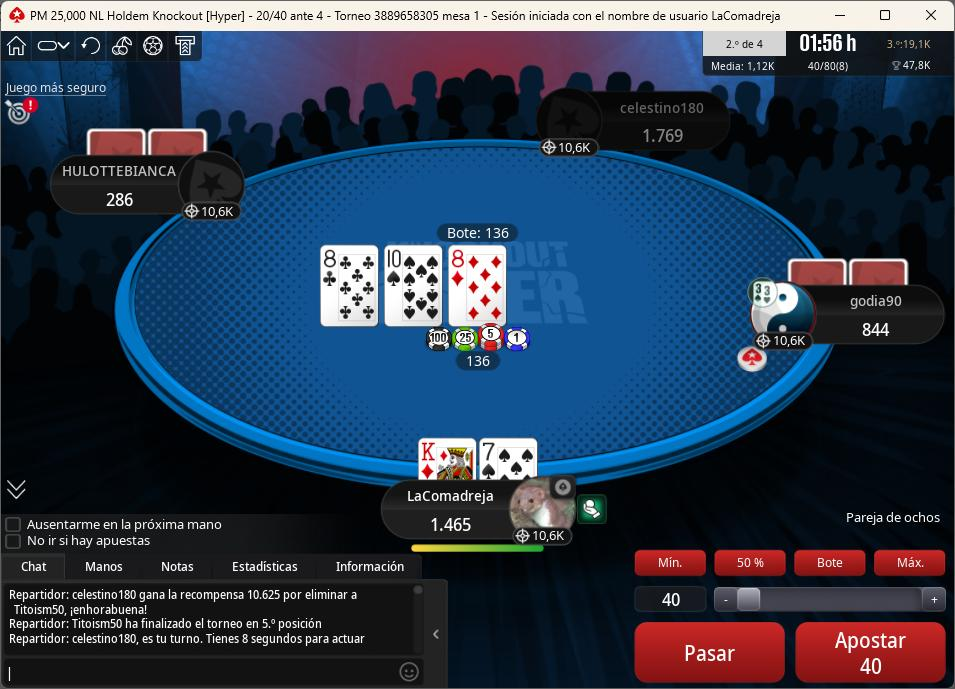ButtonCall: (628, 614, 784, 684)
ButtonMaxRaise: (874, 546, 950, 579)
ButtonMinRaise: (633, 548, 711, 580)
ButtonPotRaise: (792, 550, 870, 578)
ButtonRaise: (792, 618, 947, 684)
Dealer: (729, 346, 781, 378)
HiddenCards: (83, 132, 211, 160), (787, 259, 913, 286)
Player: (748, 283, 951, 351), (49, 151, 247, 216), (546, 92, 734, 159)
PlayerChips: (633, 125, 692, 144), (854, 321, 896, 342), (98, 192, 140, 211)
Pot: (433, 223, 520, 243)
PrincipalCards: (411, 436, 543, 483)
PrincipalCards1: (416, 437, 478, 482)
PrincipalCards2: (479, 437, 540, 481)
PrincipalPlayer: (385, 475, 587, 551)
PrincipalPlayerChips: (421, 517, 482, 537)
ShowedCards: (314, 242, 512, 332)
ShowedCards1: (319, 242, 380, 332)
ShowedCards2: (384, 243, 443, 328)
ShowedCards3: (446, 245, 508, 330)
SmallBigBlind: (246, 7, 334, 24)
TablePot: (415, 323, 547, 380)
